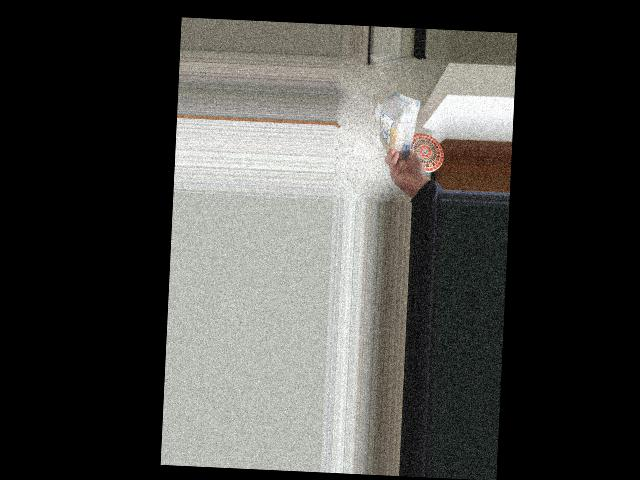cheese: (378, 91, 417, 158)
